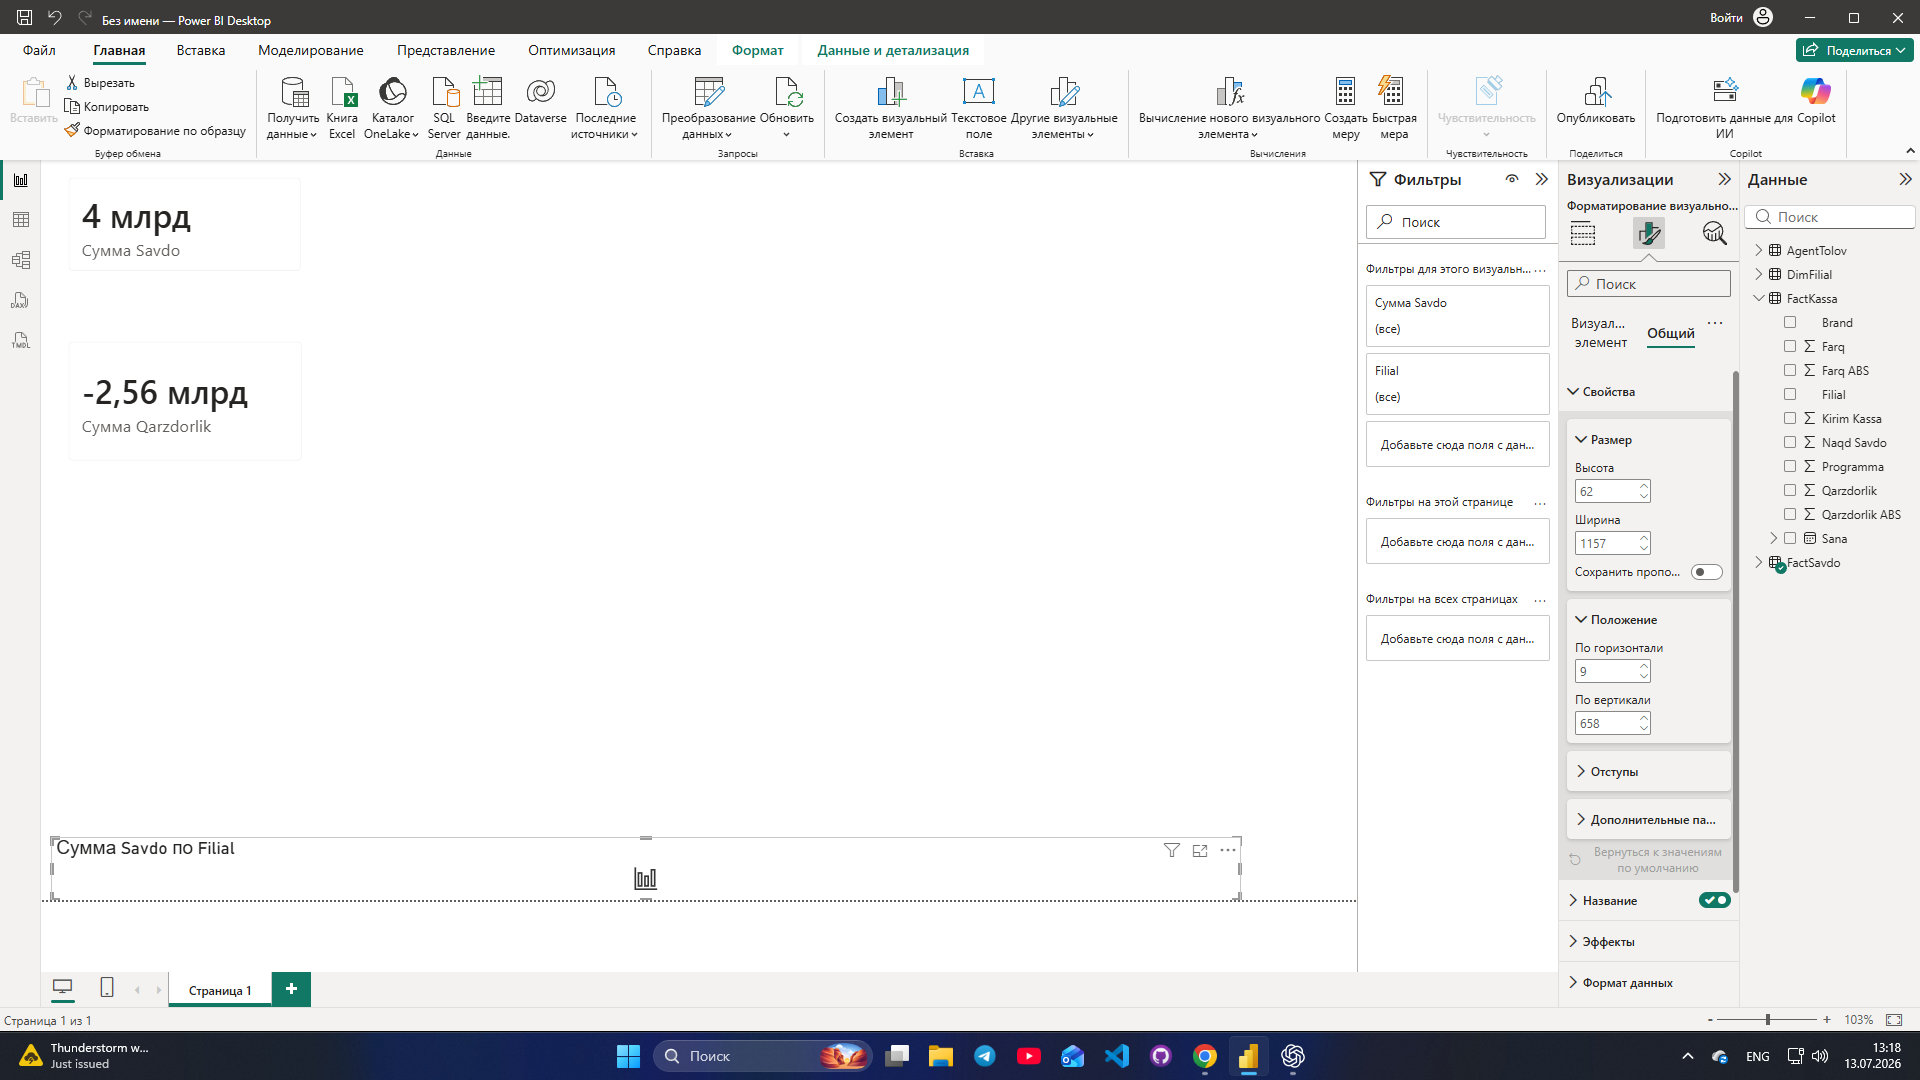

This screenshot's page, from the dashboard's own definition file:
{"tool":"powerbi","page":{"name":"Страница 1","canvas":[1280,720],"ordinal":0},"visuals":[{"type":"cardVisual","fields":{"Data":["Sum(FactSavdo.Savdo)"]},"box":[9.7,0,260.7,125.5],"z":0},{"type":"cardVisual","fields":{"Data":["Sum(FactKassa.Qarzdorlik)"]},"box":[10,159.5,261,150],"z":2},{"type":"clusteredColumnChart","fields":{"Category":["FactSavdo.Filial"],"Y":["Sum(FactSavdo.Savdo)"]},"box":[10,10,1157,150],"z":3}]}

Visuals, with their boxes on the page's 1280x720 design canvas (x1, y1, x2, y2). These are canvas units, not pixel positions in the 1920x1080 screenshot, which may show the page scaled, cropped or inside an application window:
cardVisual - Sum(FactSavdo.Savdo): [10, 0, 270, 126]
cardVisual - Sum(FactKassa.Qarzdorlik): [10, 160, 271, 310]
clusteredColumnChart - FactSavdo.Filial x Sum(FactSavdo.Savdo): [10, 10, 1167, 160]
